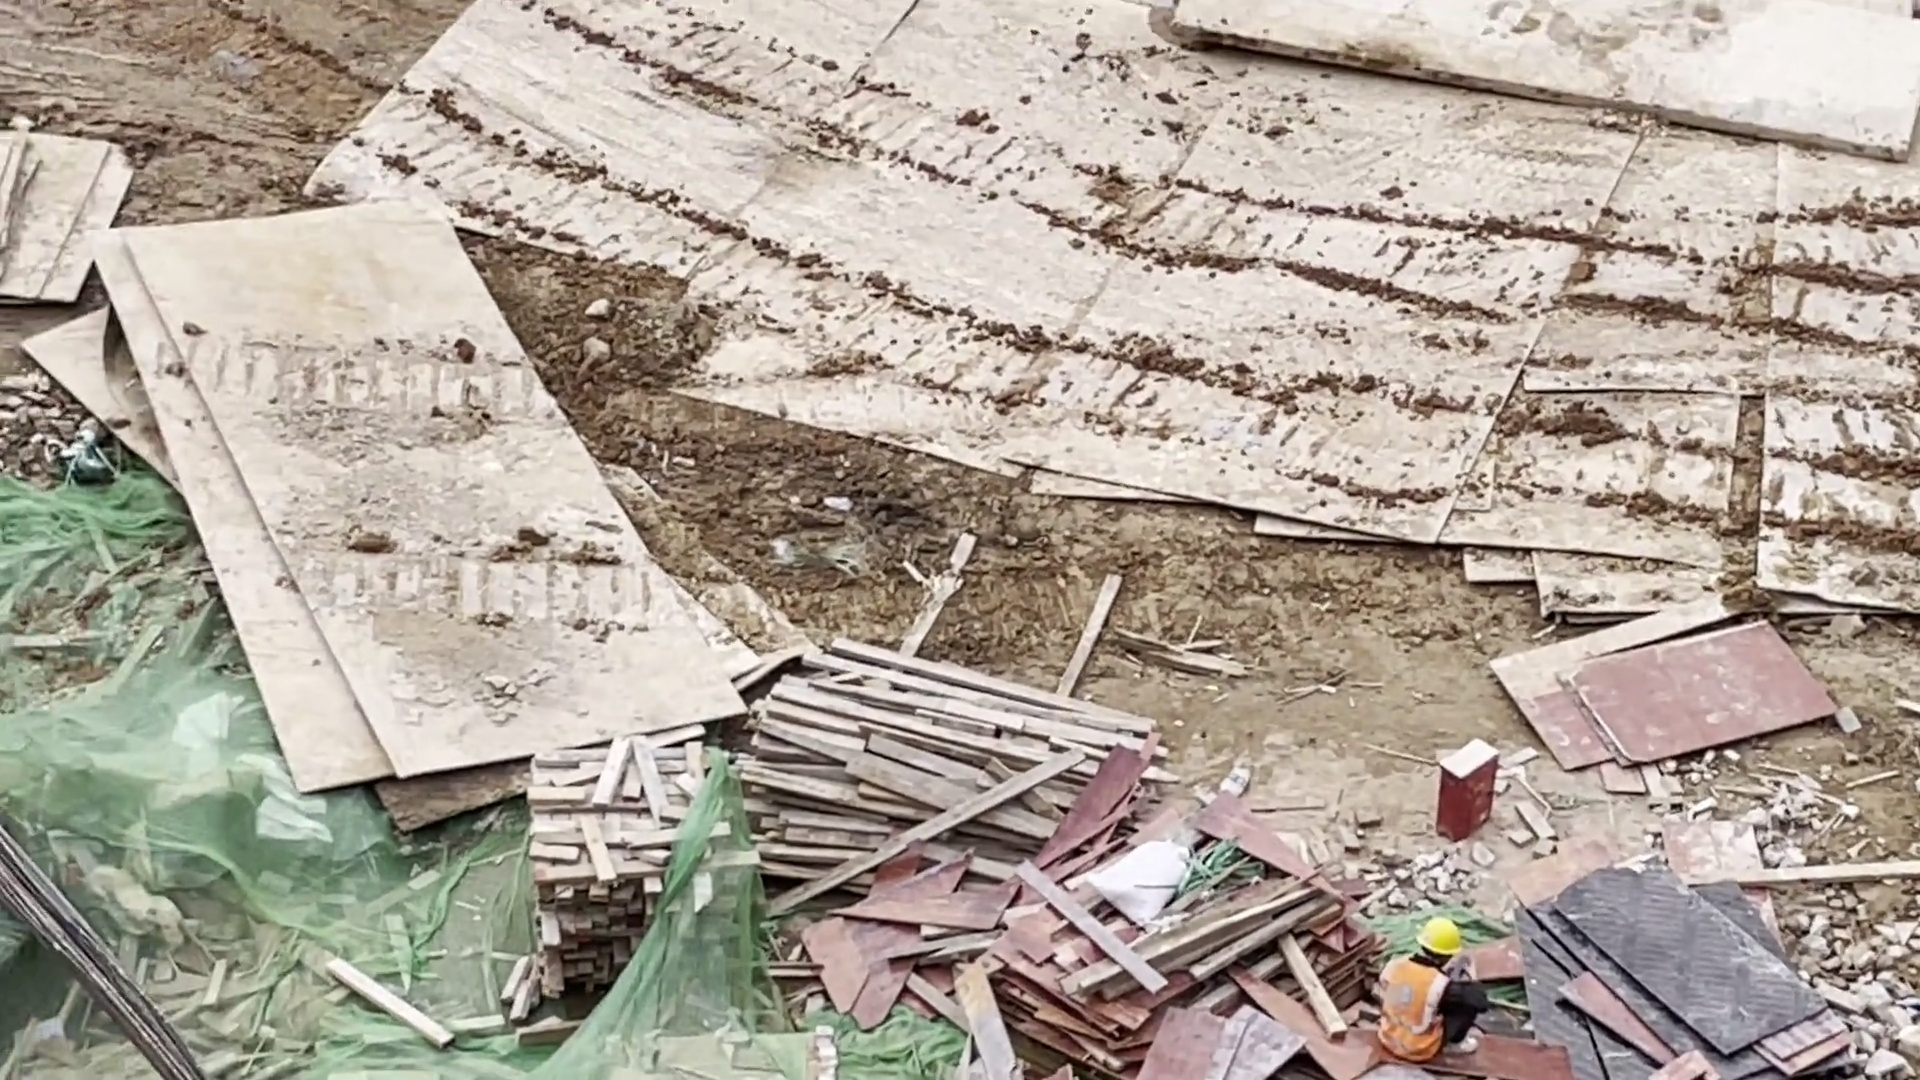board: (1531, 871, 1801, 1080)
helmet: (1419, 918, 1459, 959)
person: (1372, 914, 1484, 1055)
rebar: (1, 844, 193, 1080)
vest: (1378, 957, 1440, 1055)
wood: (530, 755, 701, 971)
